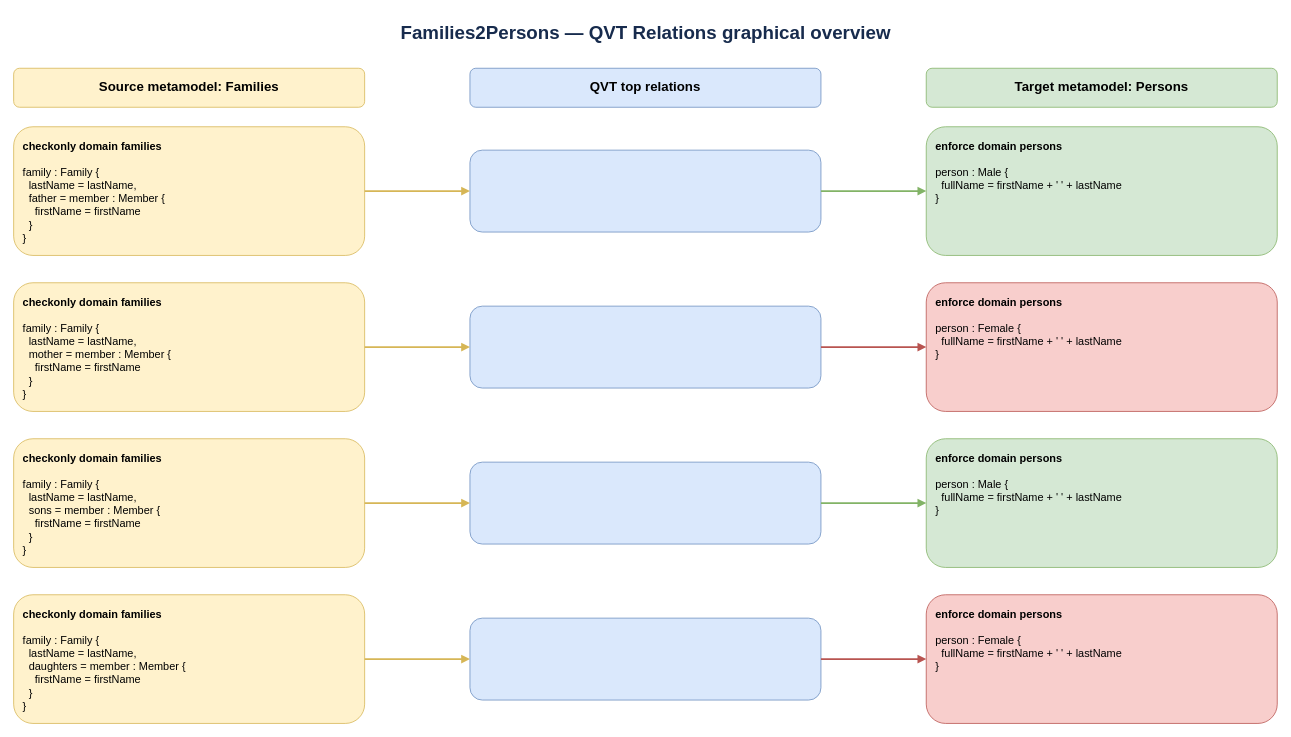
The diagram is 1291 pixels wide and 737 high, and some of its shapes have lost their labels. Here are the shapes that lost their labels. From the top down, the box of each, then its label:
(469, 149, 821, 232): top relation FatherToMale firstName, lastName : String
(469, 305, 821, 388): top relation MotherToFemale firstName, lastName : String
(469, 461, 821, 544): top relation SonToMale firstName, lastName : String
(469, 617, 821, 700): top relation DaughterToFemale firstName, lastName : String
